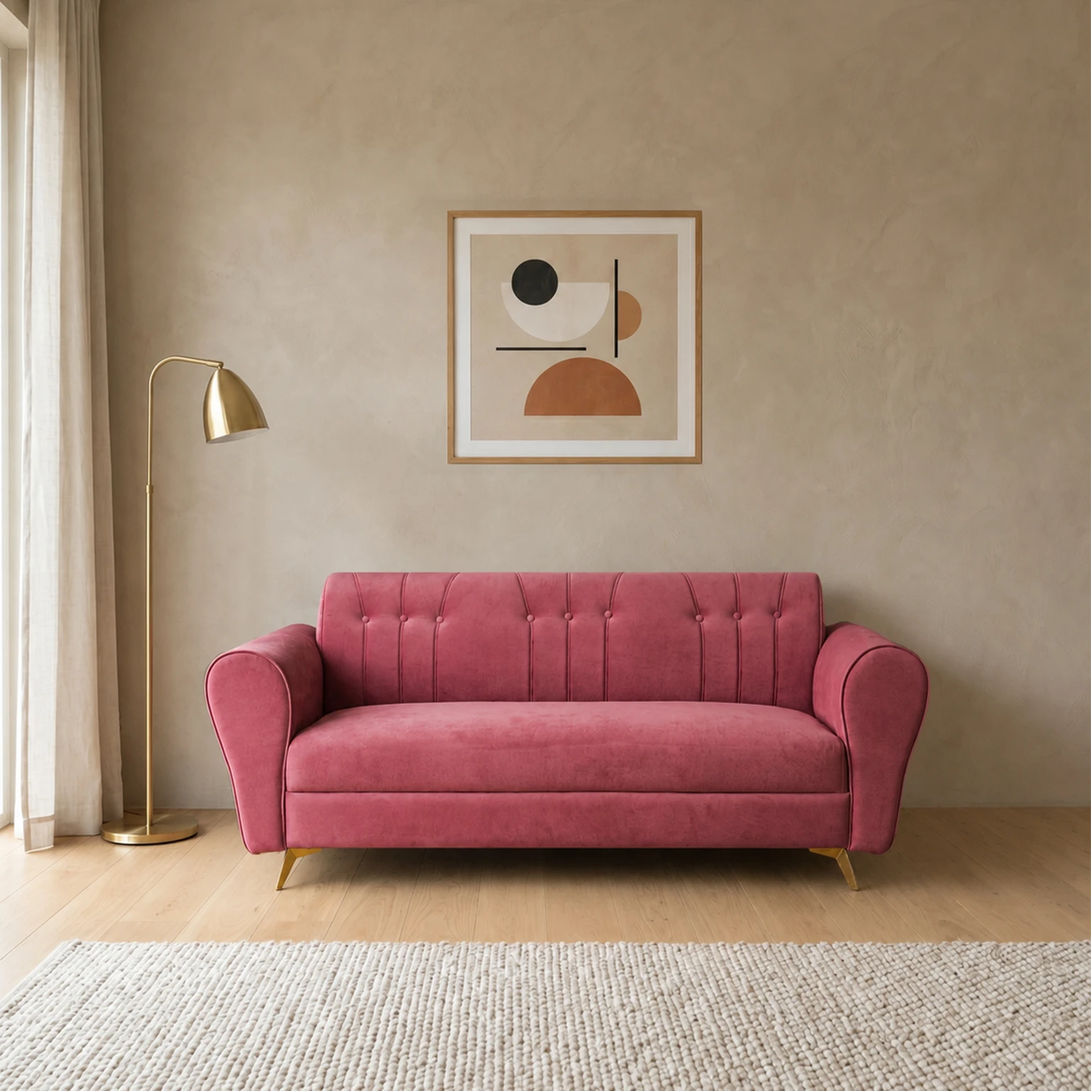3seatersofa: (207, 573, 928, 889)
backrest: (322, 573, 823, 713)
base: (286, 794, 847, 846)
leftarmrest: (813, 623, 928, 851)
leg: (808, 847, 858, 890), (276, 848, 321, 891)
rightarmrest: (206, 625, 322, 852)
seat: (288, 701, 847, 794)
